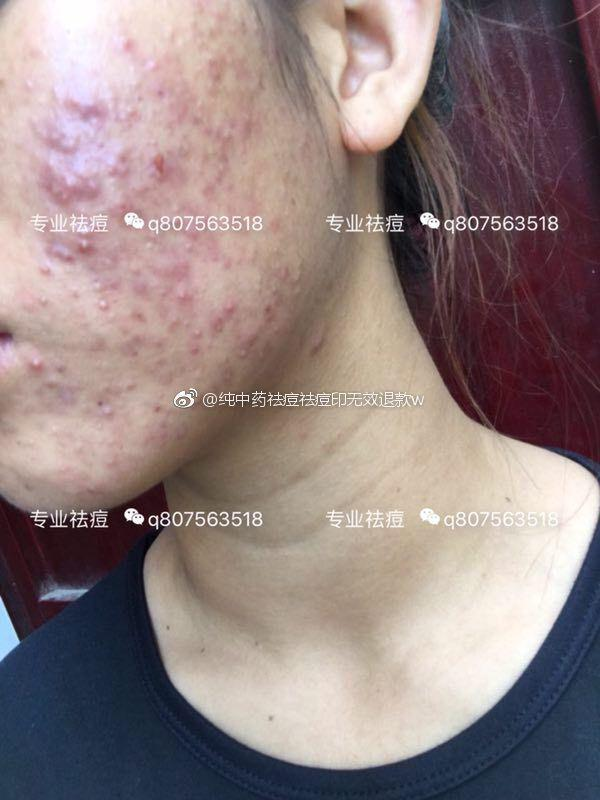fore: (101, 31, 154, 77), (185, 162, 229, 210), (85, 274, 126, 325), (107, 141, 153, 184), (103, 189, 146, 235), (25, 123, 69, 164), (142, 54, 190, 91), (162, 77, 201, 120), (185, 105, 229, 143), (229, 104, 266, 146), (222, 317, 259, 357), (71, 226, 107, 267), (206, 47, 241, 88), (73, 166, 108, 205), (190, 1, 222, 43), (45, 162, 73, 207), (110, 95, 144, 132), (256, 295, 289, 331), (43, 233, 76, 269), (68, 82, 101, 118), (206, 294, 241, 327), (149, 145, 183, 178), (57, 130, 101, 155), (182, 223, 214, 254), (142, 418, 174, 449), (169, 283, 201, 311), (153, 253, 194, 274), (123, 269, 153, 297), (8, 207, 36, 237), (179, 341, 206, 372), (119, 330, 147, 356), (263, 208, 285, 241), (209, 141, 233, 171), (21, 41, 48, 64), (302, 332, 327, 356), (32, 349, 53, 377), (126, 302, 150, 326), (96, 429, 124, 449), (54, 457, 79, 479), (88, 334, 111, 357), (33, 289, 56, 311), (165, 311, 186, 335), (186, 322, 210, 343), (79, 478, 104, 498), (188, 390, 211, 411), (53, 355, 74, 378), (64, 283, 88, 303), (69, 439, 93, 458), (18, 74, 40, 94), (43, 422, 67, 439), (93, 378, 118, 394), (98, 402, 117, 422), (217, 250, 236, 269), (101, 451, 121, 469), (173, 420, 189, 442), (152, 400, 172, 416), (149, 331, 165, 350), (119, 378, 142, 391), (271, 265, 289, 281)
